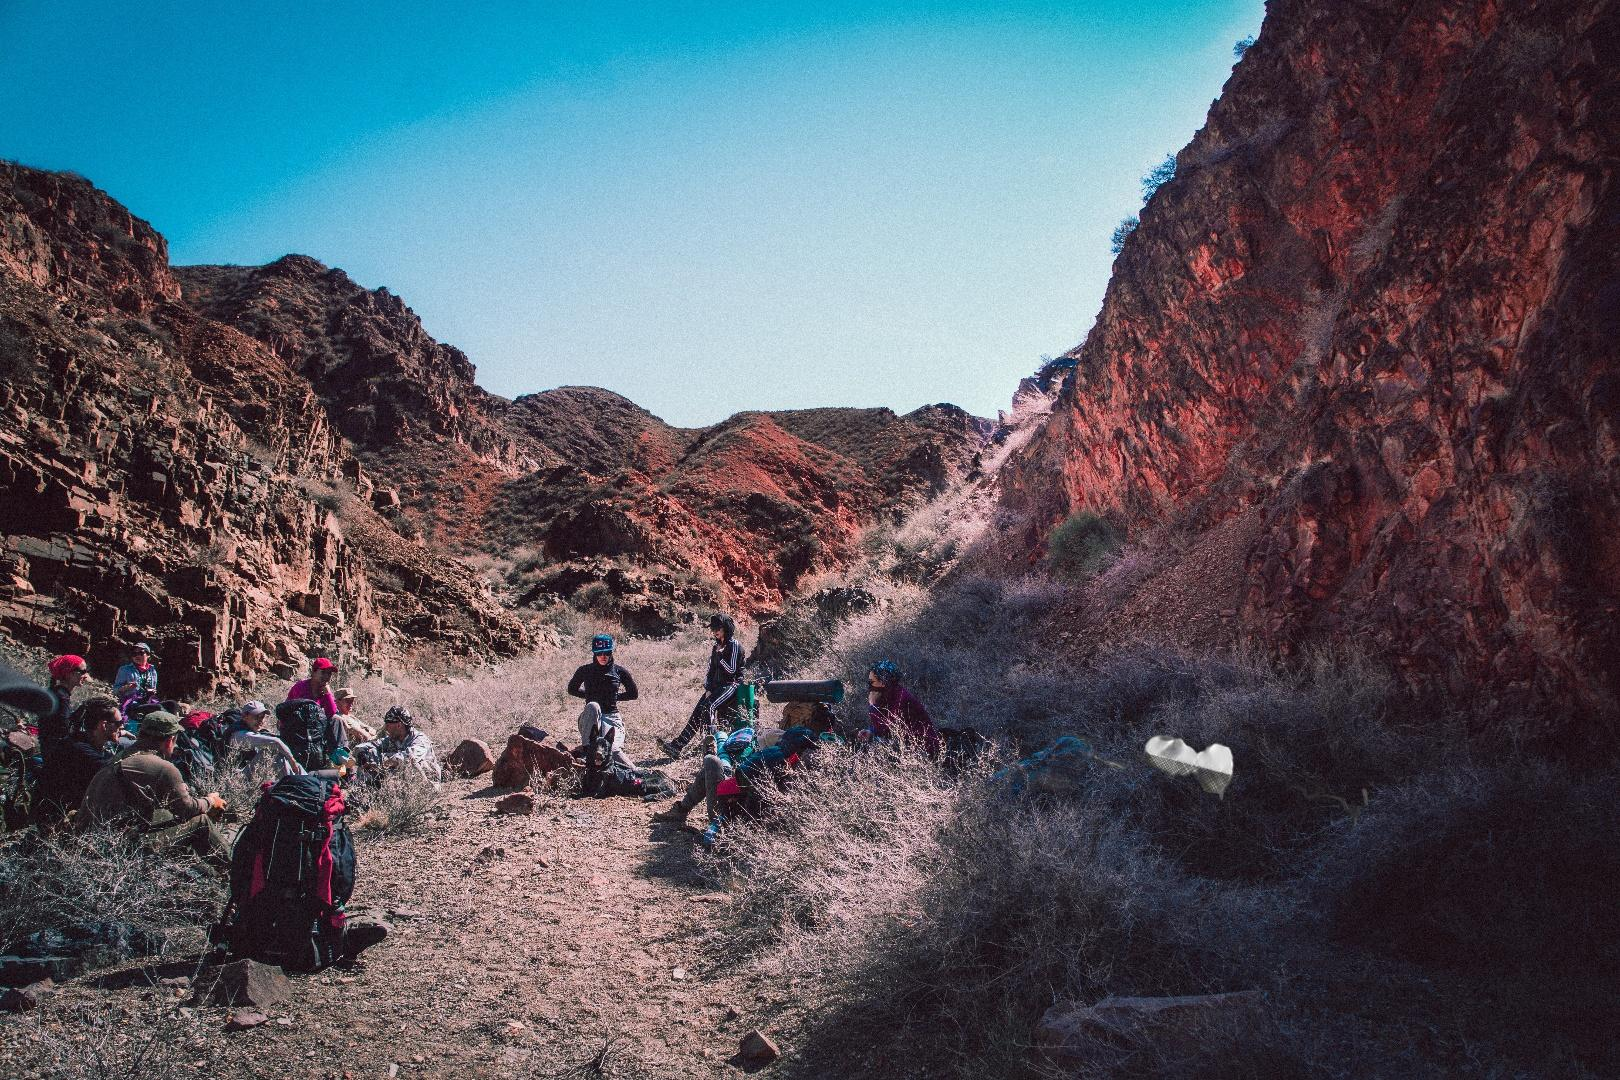paper: (987, 712, 1452, 1019)
